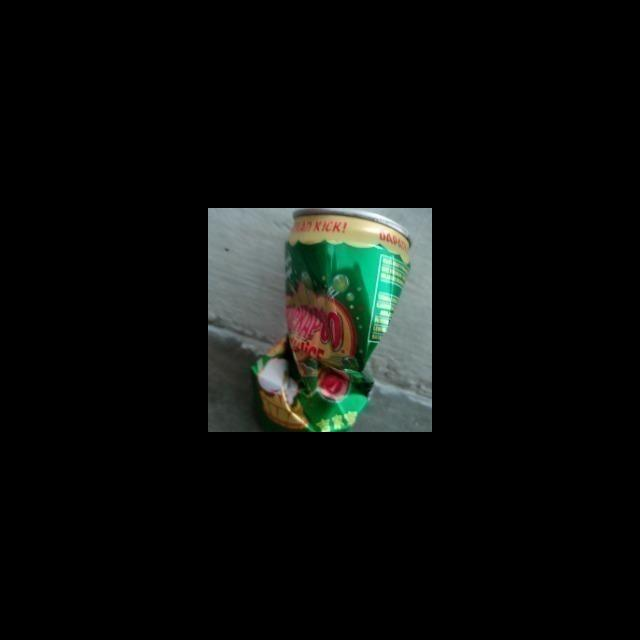metal: (244, 208, 419, 432)
